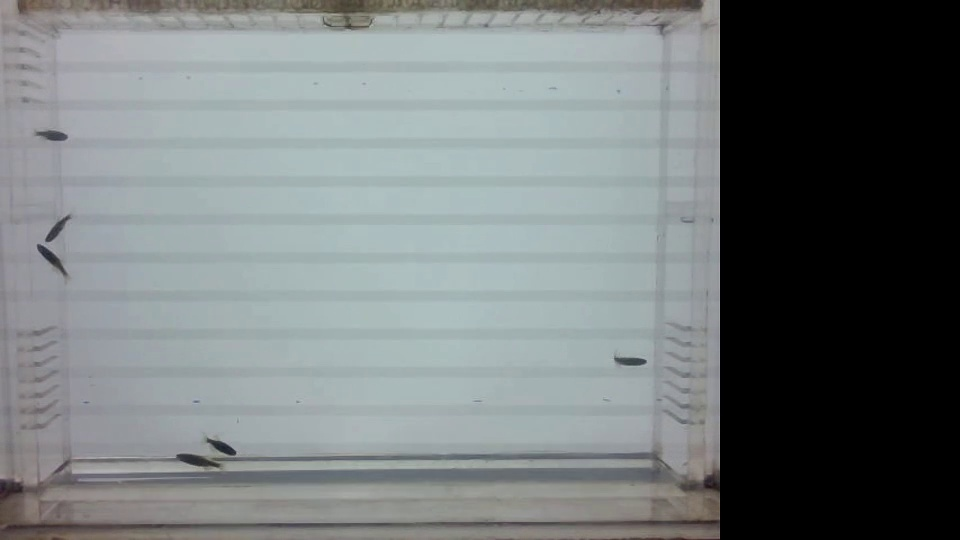fish: (29, 244, 78, 285), (168, 452, 224, 474), (42, 212, 76, 248), (600, 352, 648, 376), (206, 428, 241, 460), (29, 124, 72, 146)
